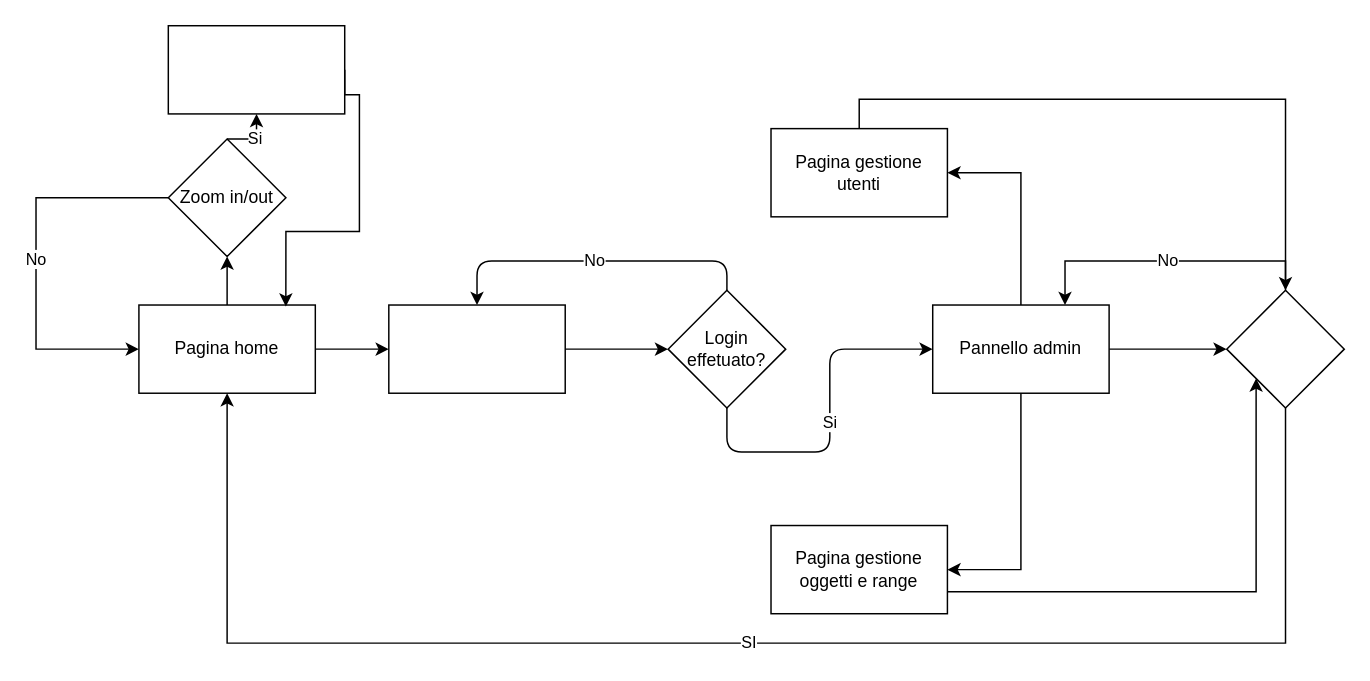
Some shapes in this 1370 by 681 pixel diagram are drawn without their labels. Each missing label, with the centre of its shape:
Logout?: [1284,348]
Pagina login: [476,348]
Richiesta di aggiornamento: [256,69]
